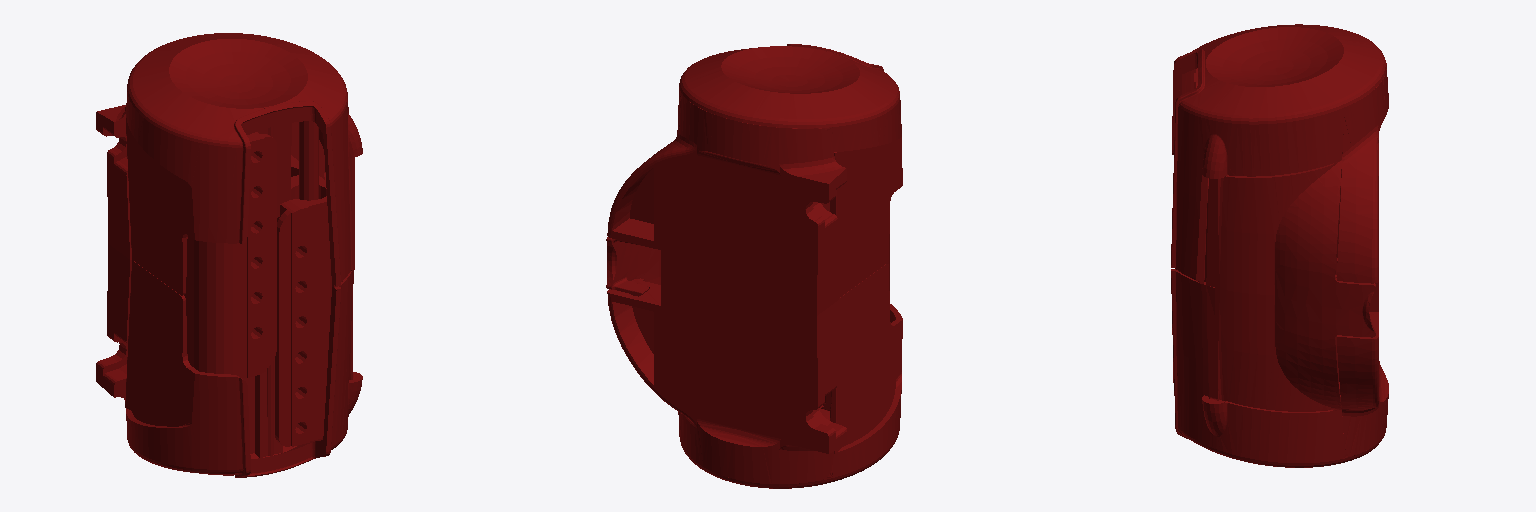
The model's file is right_electric_gripper_base_visuals.obj.
3 renders of one model, left to right at view 1: azimuth 30°, elevation 25°; view 2: azimuth 150°, elevation 25°; view 3: azimuth 270°, elevation 25°, orthographic.
Size of the model in its own units: 0.0659 by 0.1055 by 0.0534.